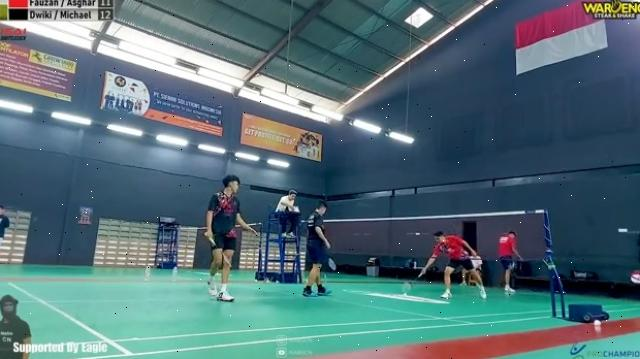Shuttlecock: (398, 291, 408, 299)
